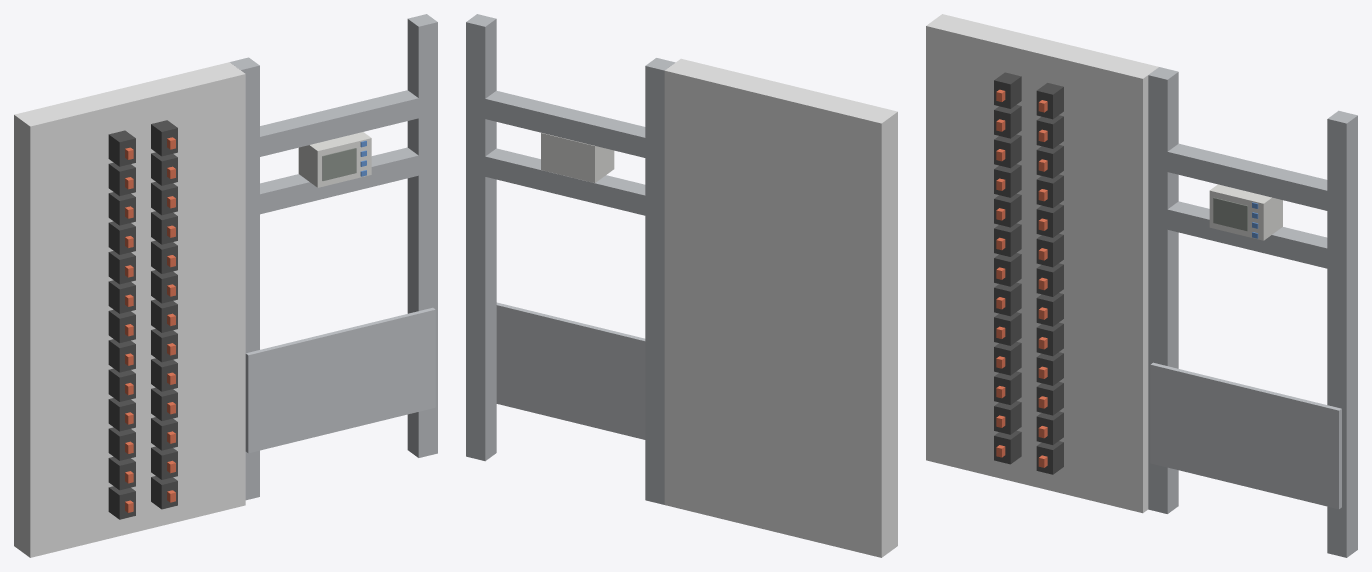
File: PDP.glb
The picture shows the model from 3 angles, left to right: view 1: azimuth 30°, elevation 25°; view 2: azimuth 150°, elevation 25°; view 3: azimuth 330°, elevation 25°; orthographic projection.
Parts seen in each view (by area): view 1: Panelboard_Body, Flat_Bracket, Unistrut_1, Unistrut_Top, Unistrut_0, Unistrut_Mid, PMM_Body, PMM_Display, CB_0_0, CB_1_0, CB_0_11, CB_0_8 (+22 smaller); view 2: Panelboard_Body, Flat_Bracket, Unistrut_1, Unistrut_0, Unistrut_Top, Unistrut_Mid, PMM_Body; view 3: Panelboard_Body, Flat_Bracket, Unistrut_1, Unistrut_0, Unistrut_Top, Unistrut_Mid, PMM_Body, PMM_Display, CB_0_0, CB_1_0, CB_0_1, CB_0_12 (+22 smaller).
Part boxes in pixels (left/top/right/bottom): Panelboard_Body: left=14, top=62, right=245, bottom=557; Flat_Bracket: left=245, top=307, right=435, bottom=453; Unistrut_1: left=407, top=14, right=437, bottom=457; Unistrut_Top: left=245, top=90, right=437, bottom=160; Unistrut_0: left=230, top=57, right=259, bottom=500; Unistrut_Mid: left=245, top=147, right=437, bottom=217; PMM_Body: left=298, top=132, right=371, bottom=187; PMM_Display: left=322, top=148, right=356, bottom=180; CB_0_0: left=108, top=130, right=135, bottom=166; CB_1_0: left=151, top=120, right=177, bottom=156; CB_0_11: left=108, top=456, right=135, bottom=490; CB_0_8: left=108, top=368, right=135, bottom=401; Panelboard_Body: left=664, top=58, right=897, bottom=557; Flat_Bracket: left=496, top=302, right=645, bottom=439; Unistrut_1: left=466, top=14, right=496, bottom=461; Unistrut_0: left=645, top=58, right=675, bottom=504; Unistrut_Top: left=466, top=90, right=658, bottom=158; Unistrut_Mid: left=466, top=148, right=657, bottom=218; PMM_Body: left=541, top=132, right=614, bottom=182; Panelboard_Body: left=926, top=14, right=1158, bottom=513; Flat_Bracket: left=1150, top=362, right=1341, bottom=509; Unistrut_1: left=1327, top=110, right=1357, bottom=557; Unistrut_0: left=1148, top=67, right=1178, bottom=513; Unistrut_Top: left=1148, top=143, right=1345, bottom=214; Unistrut_Mid: left=1149, top=201, right=1345, bottom=272; PMM_Body: left=1209, top=184, right=1282, bottom=240; PMM_Display: left=1213, top=197, right=1247, bottom=231; CB_0_0: left=994, top=72, right=1021, bottom=108; CB_1_0: left=1036, top=83, right=1063, bottom=119; CB_0_1: left=994, top=105, right=1021, bottom=138; CB_0_12: left=994, top=430, right=1021, bottom=464.
Bounding box in the file's own units: 0.8812 × 0.88 × 0.1121.
